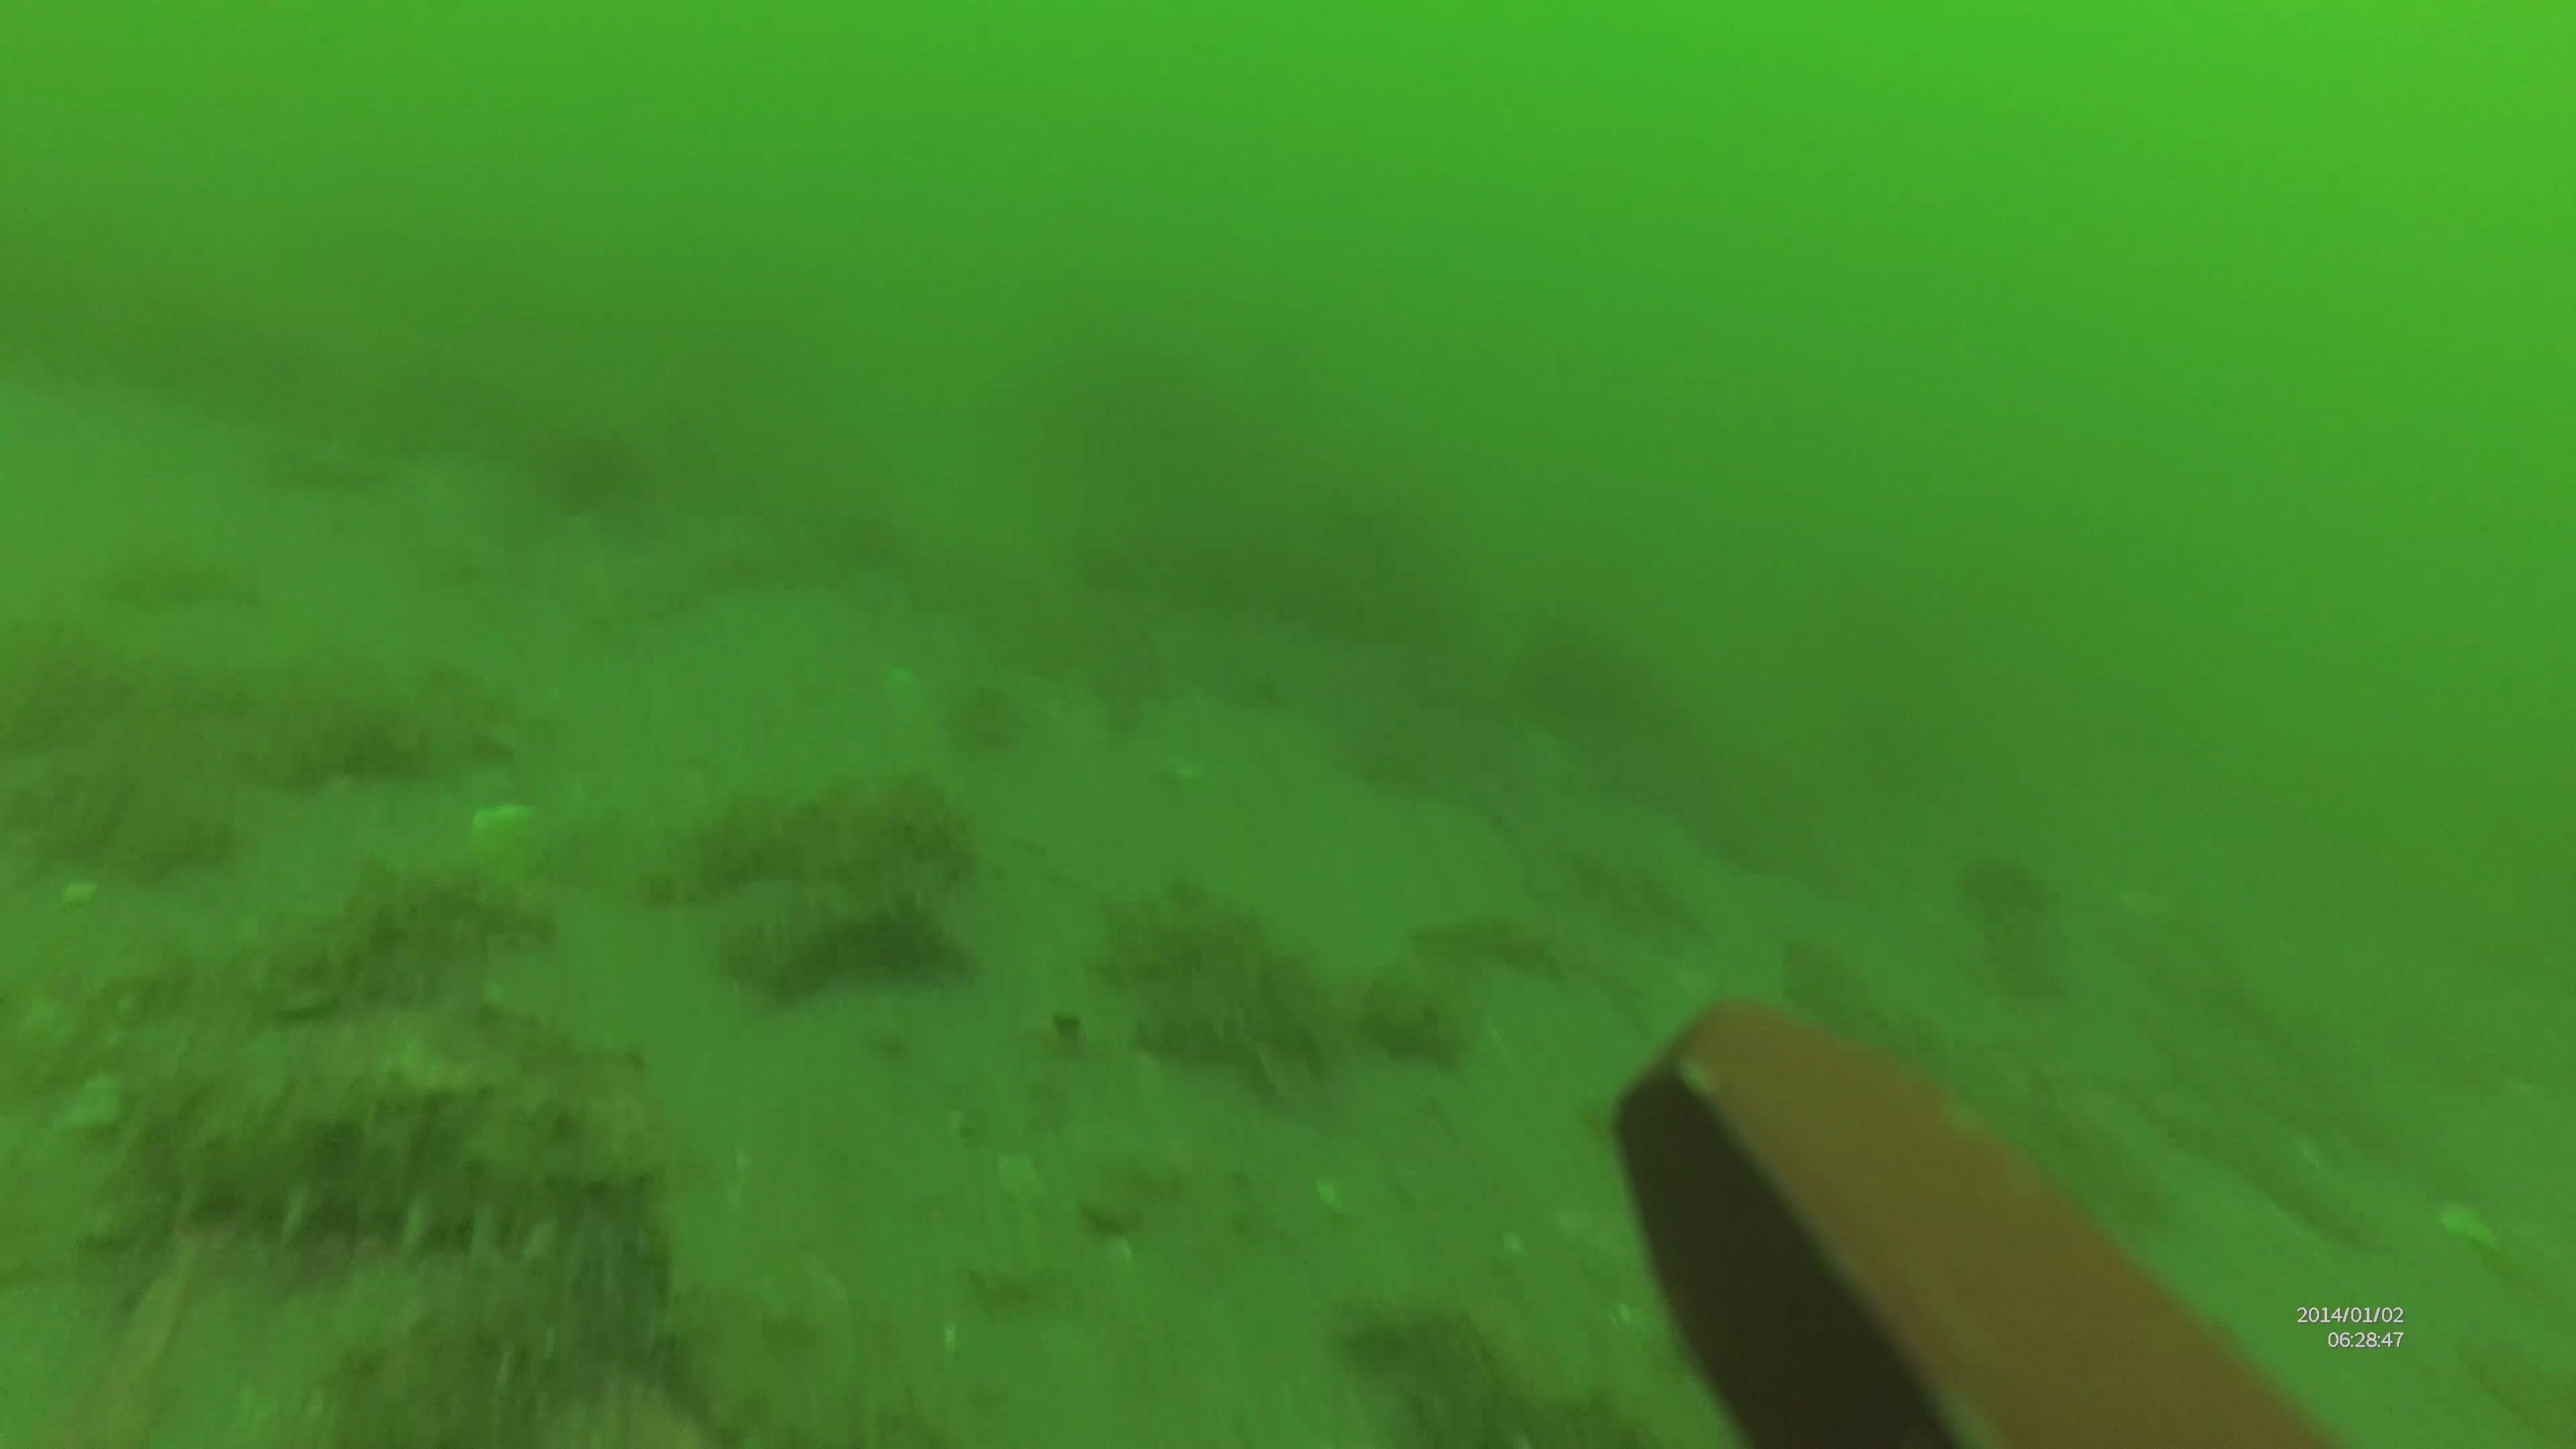holothurian: (136, 1102, 658, 1260), (729, 888, 980, 1005)
